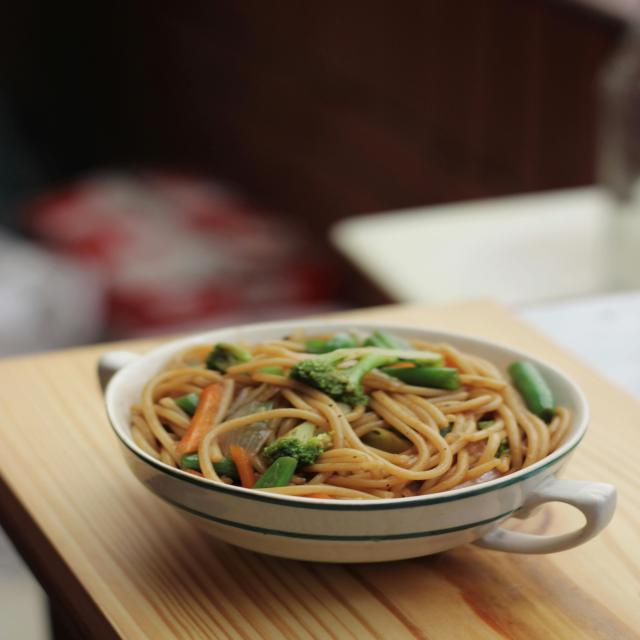Noodles: (135, 327, 578, 501)
